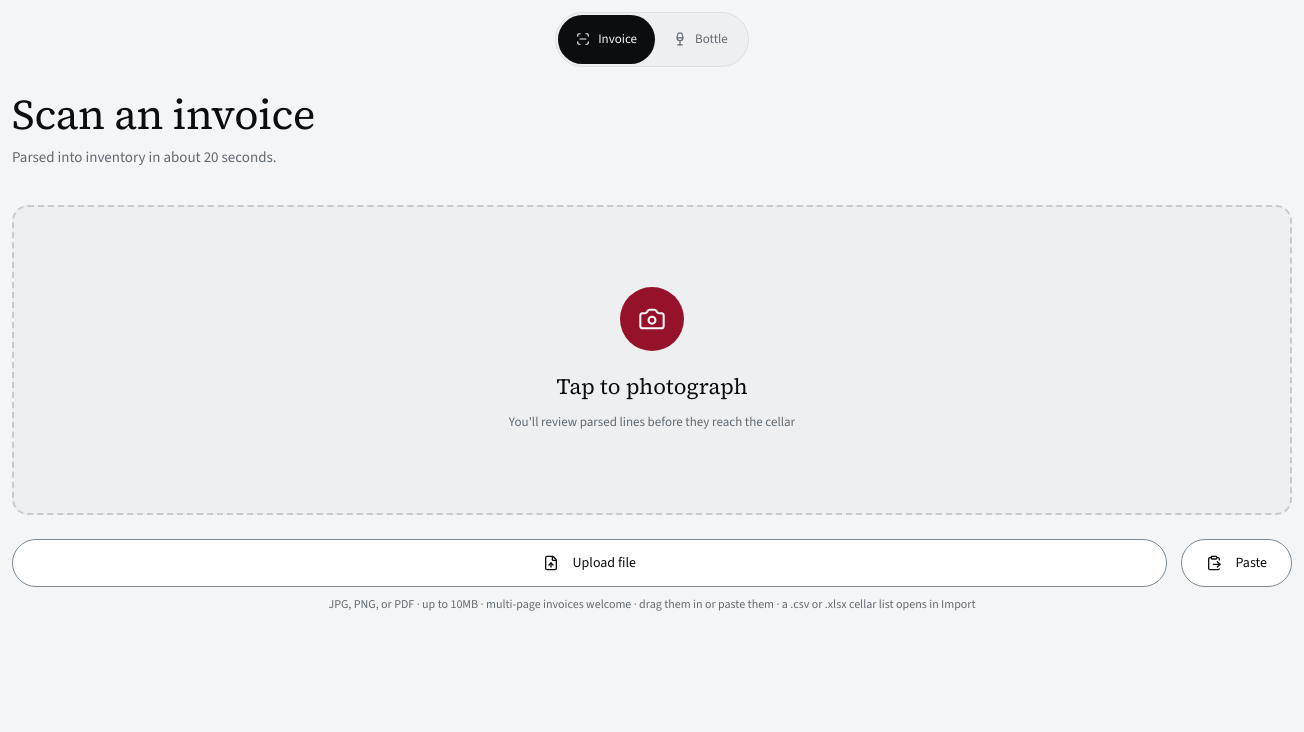
ReadyView — dropping and pasting reach the same route as the picker › says so when the browser refuses to share the clipboard
Step 1. Click the button "Paste" → point(1236, 563), box left=1180, top=539, right=1292, bottom=587
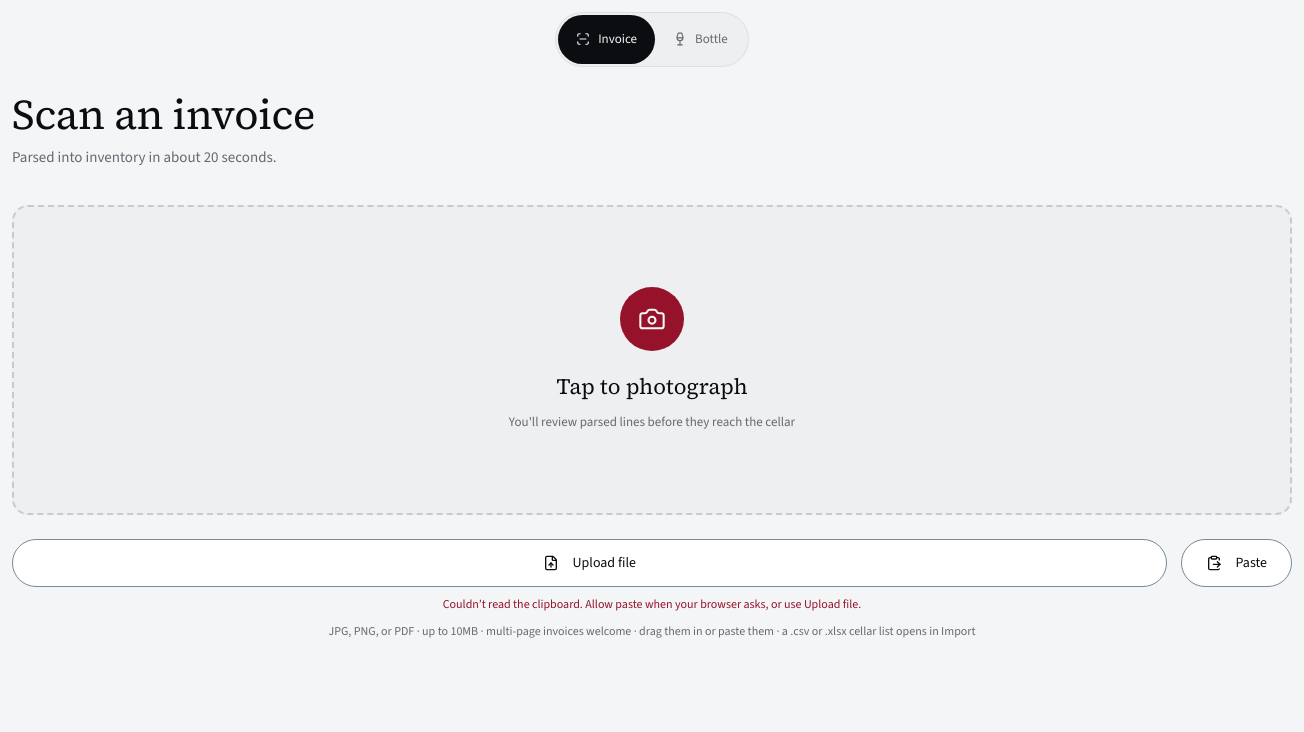
Check: the text "Allow paste when your browser asks" is shown, box left=443, top=596, right=861, bottom=612
